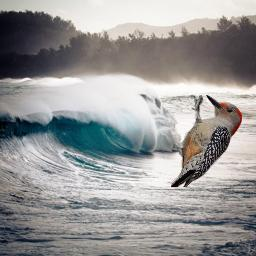Woodpecker: (171, 95, 242, 187)
